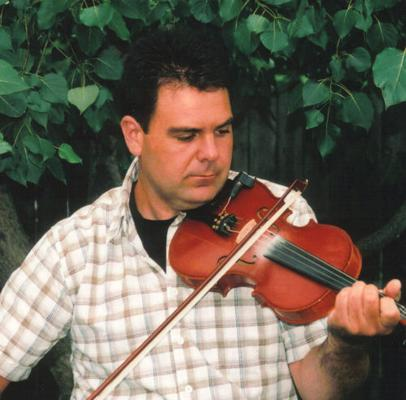person: (2, 36, 405, 400)
